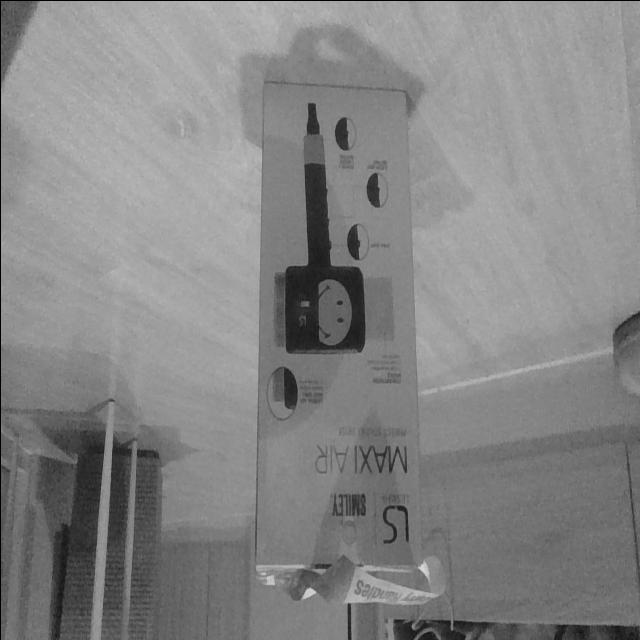IRON: (250, 76, 436, 604)
